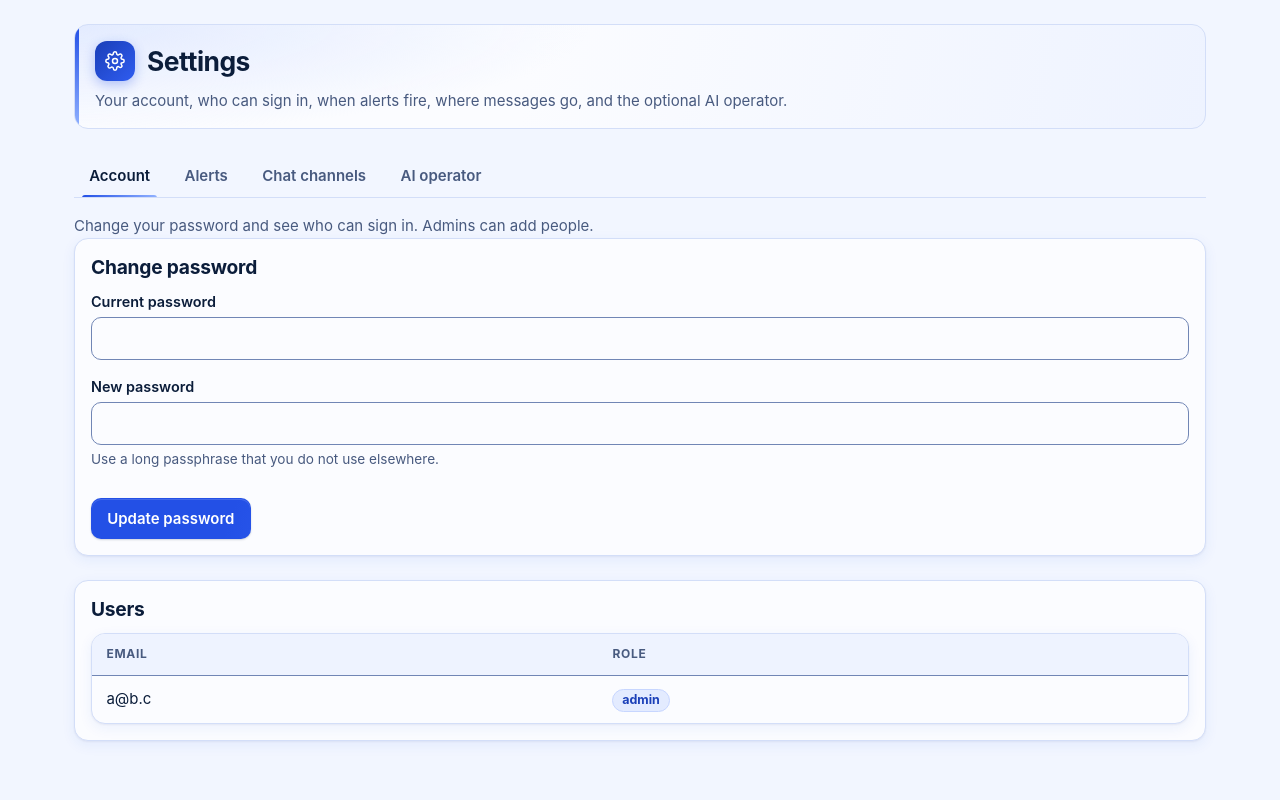
Settings M6 › makes alert settings read-only for members
Click the tab "Alerts": (206, 175) [169,153,243,197]
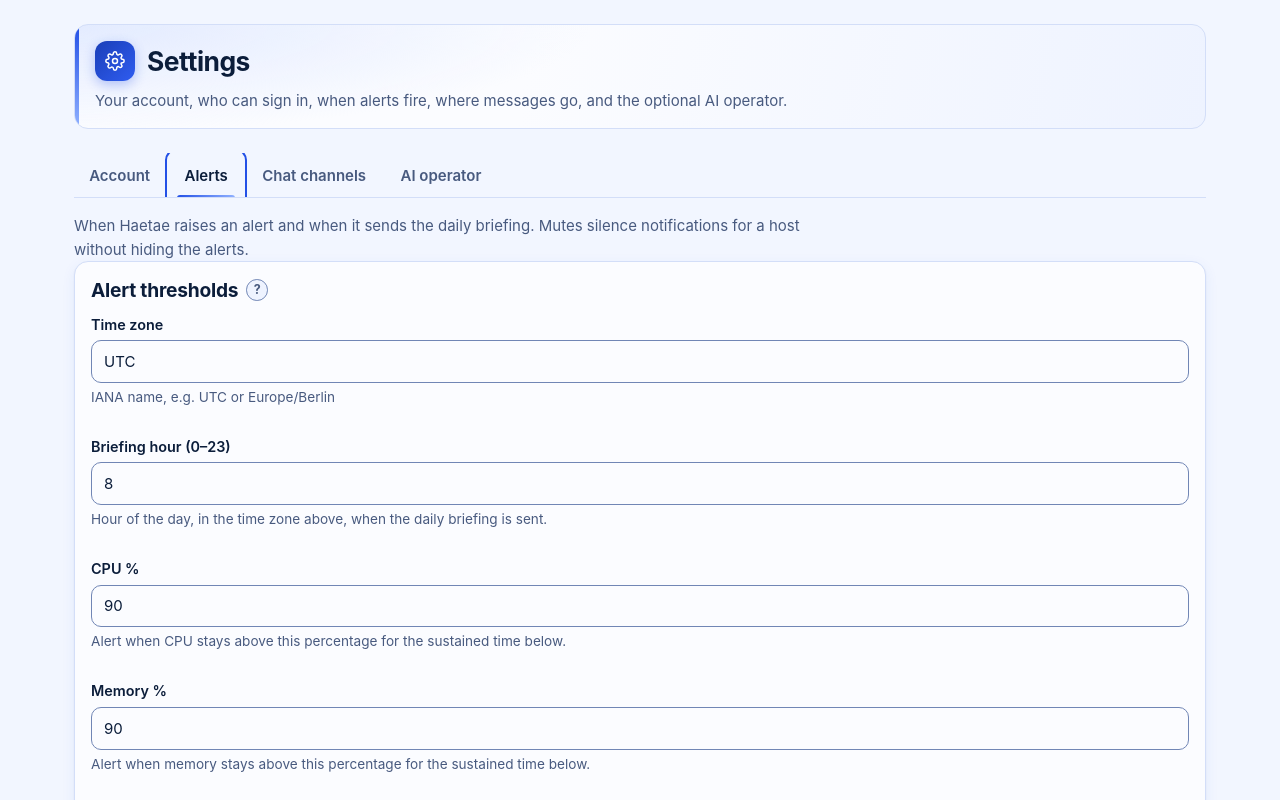
Check: the field labelled "Time zone" is disabled, box [91,340,1189,383]
